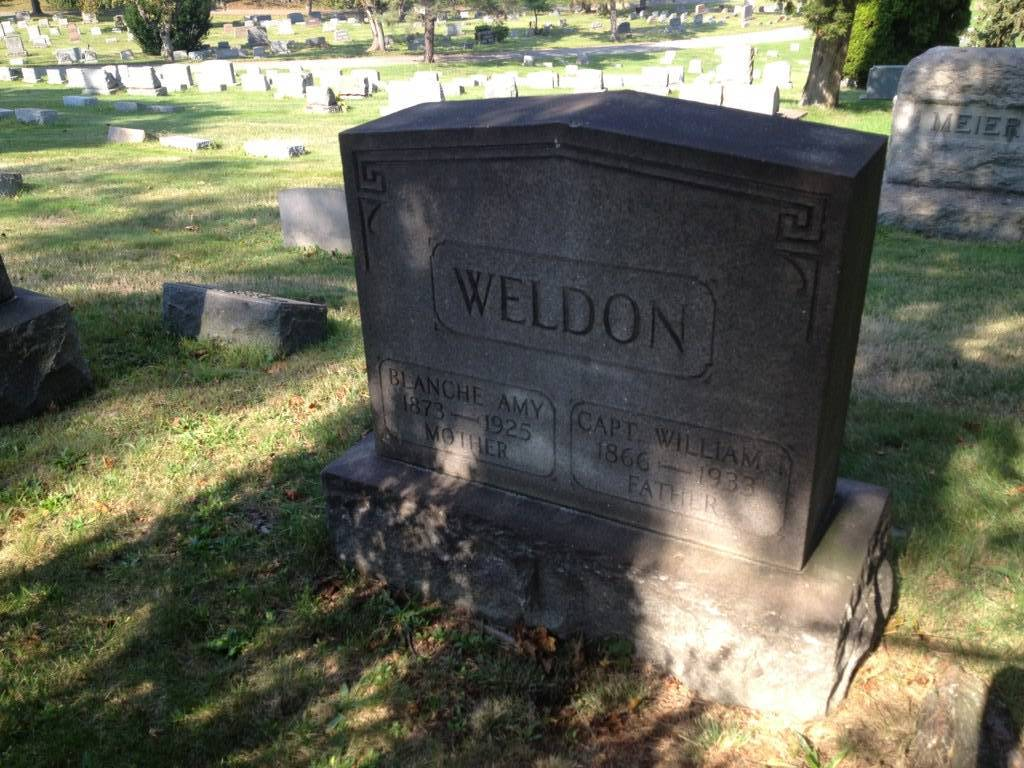upright: (324, 94, 897, 724)
